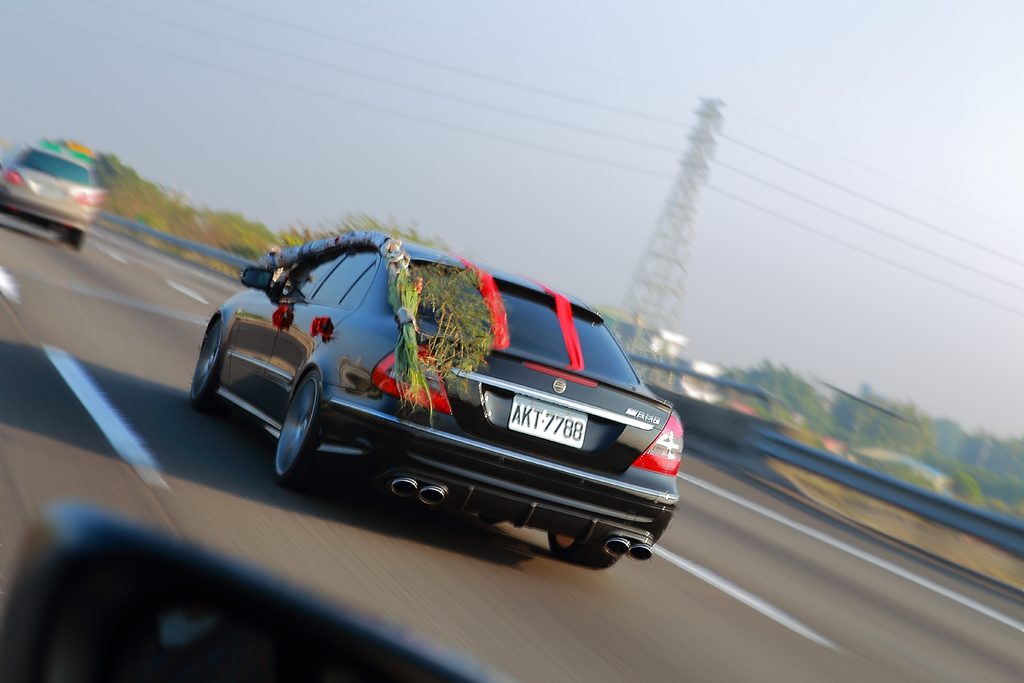car: (135, 204, 722, 591), (1, 126, 145, 260)
